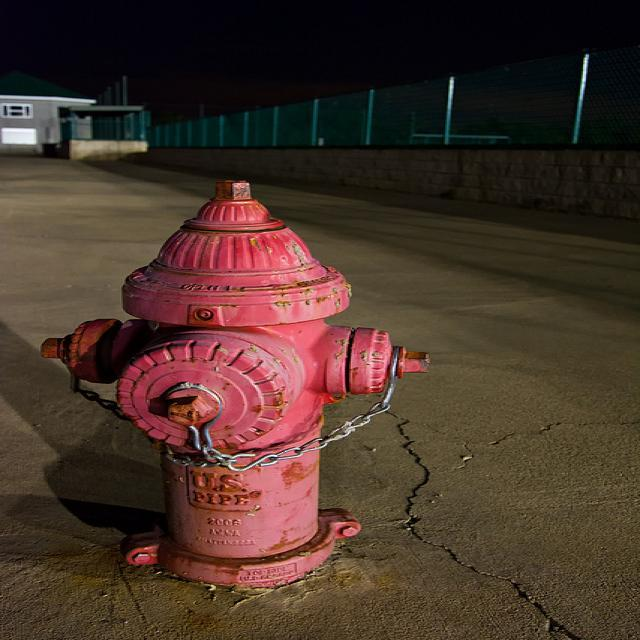fire_hydrant: (38, 179, 434, 586)
